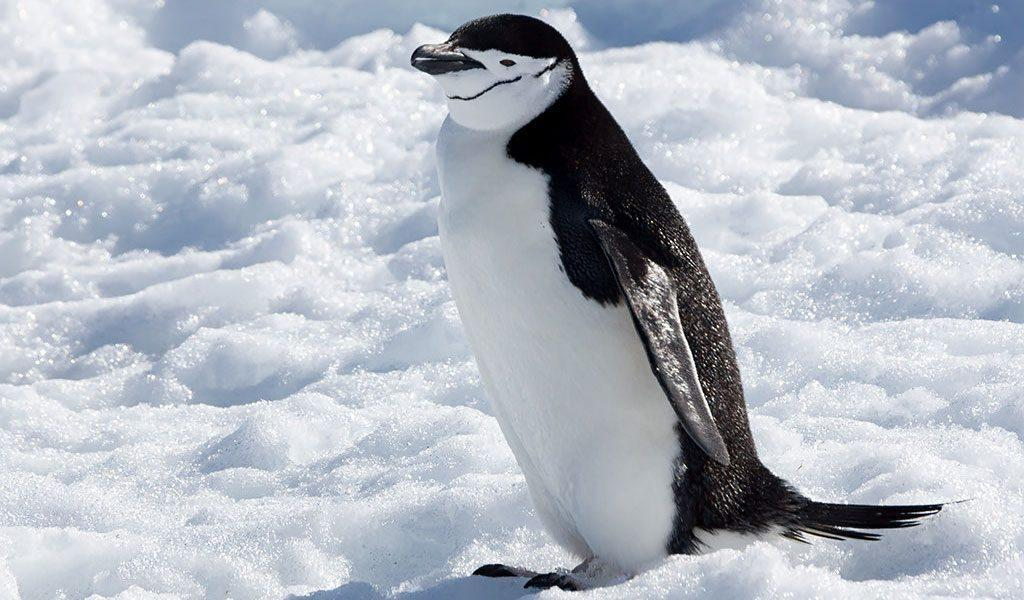Penguin: (412, 14, 942, 590)
